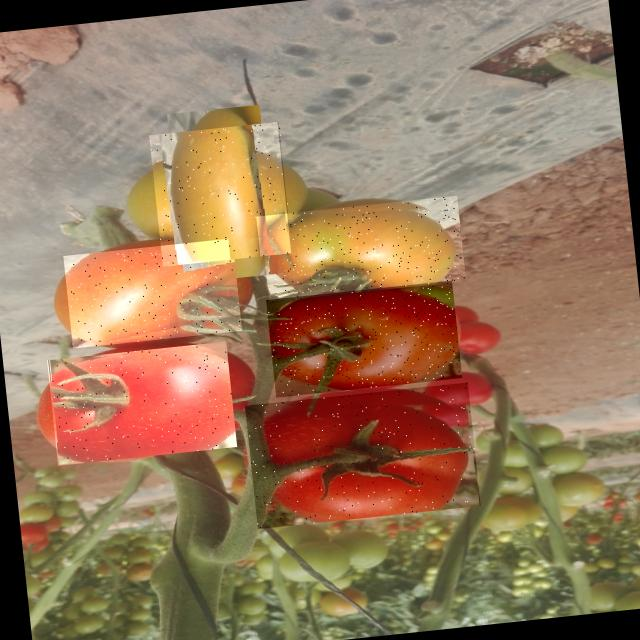Ripe Tomato: (244, 382, 480, 529), (46, 341, 236, 465), (266, 280, 462, 397), (62, 238, 242, 348)
Unripe Tomato: (260, 194, 466, 300), (149, 121, 294, 266)
